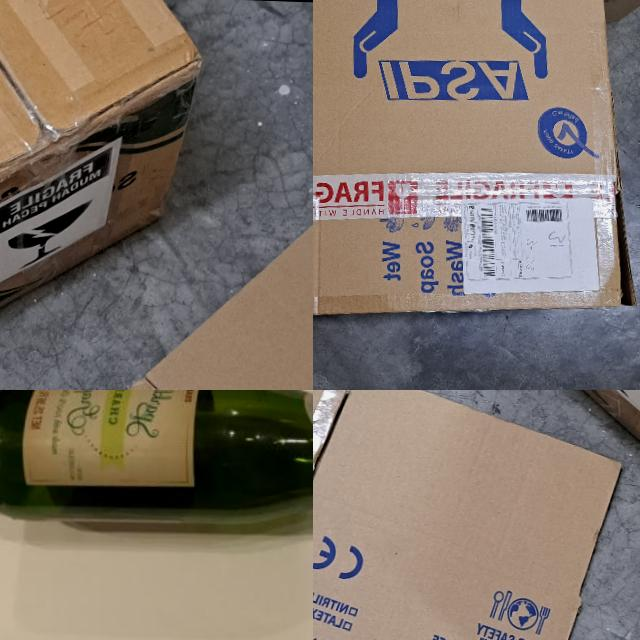garrafa de vidro: (0, 390, 313, 545)
papelão: (313, 0, 640, 331), (313, 390, 626, 640), (0, 0, 210, 364), (0, 177, 313, 390)
